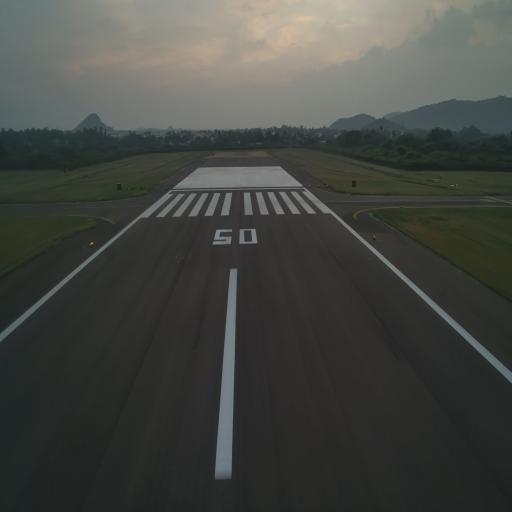on: (88, 238, 94, 253), (371, 230, 378, 242)
